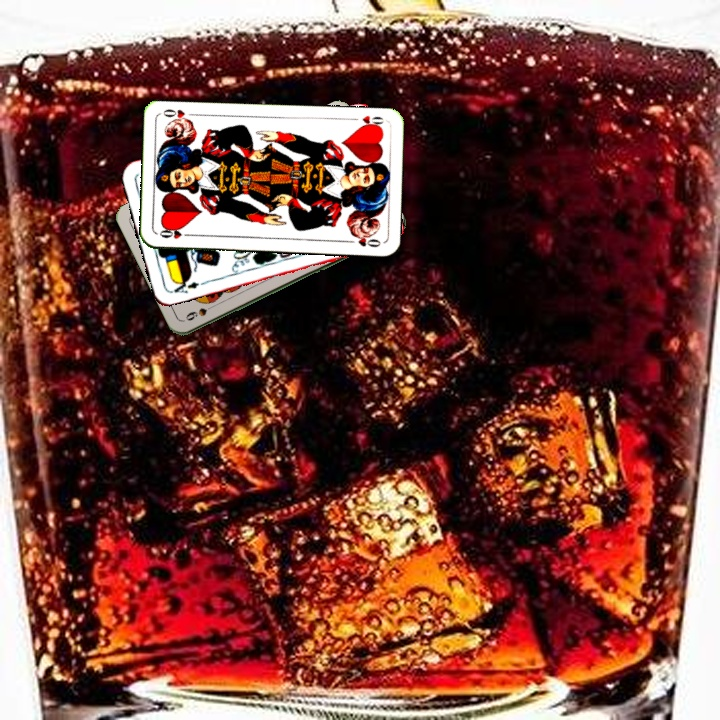EA: (167, 275, 201, 296)
HO: (347, 111, 387, 131), (155, 225, 195, 241)
S9: (181, 300, 220, 323)
